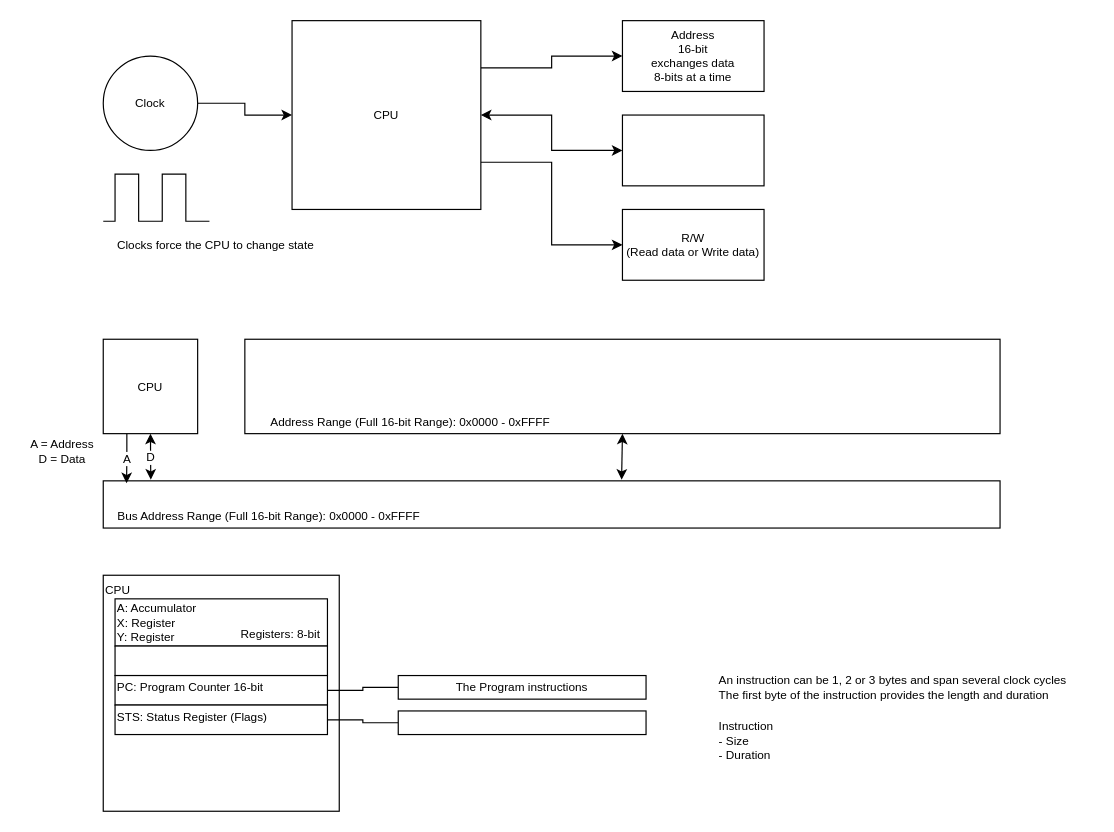
Image size: 1114x832. Some labels were removed from this diagram. The box of each missing label's shape, as (x1, y1, x2, y2) in pixels:
Bus (a set of wires): (102, 480, 1000, 528)
Data: (621, 114, 764, 186)
RAM 64kb: (244, 338, 1000, 434)
S: Stack Pointer: (114, 645, 327, 676)
Zero Flag, Carry Flag, Interrupts (set of bits): (397, 710, 646, 735)
